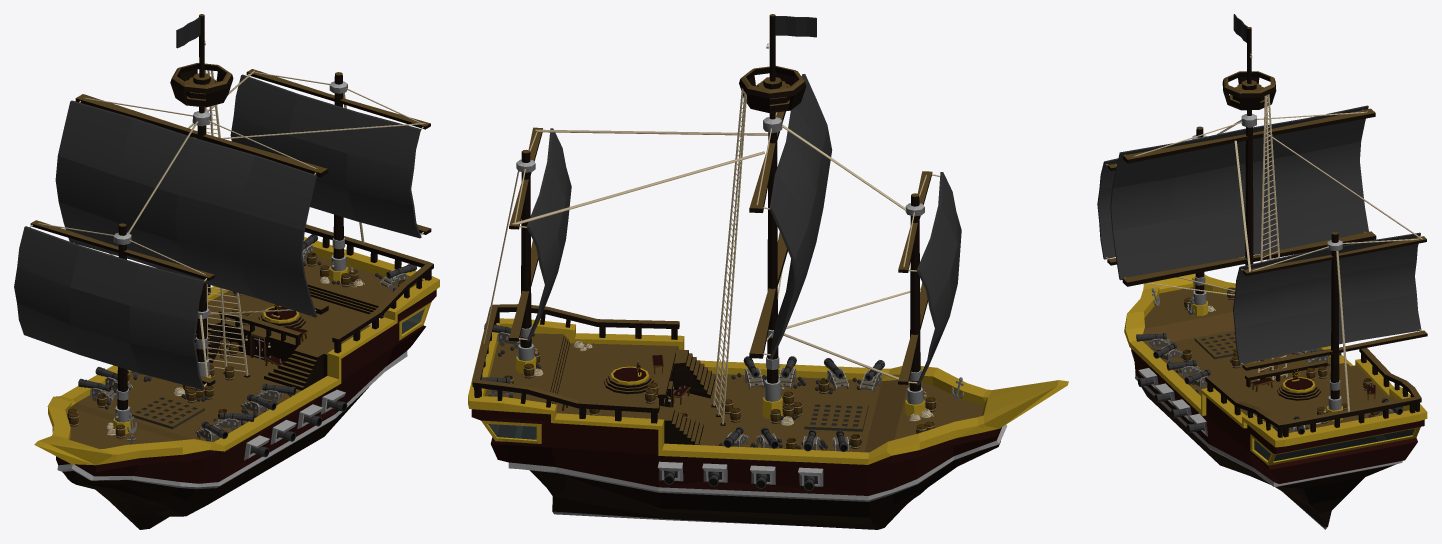
The model's file is ship.glb.
The picture shows the model from 3 angles, left to right: view 1: azimuth 30°, elevation 25°; view 2: azimuth 150°, elevation 25°; view 3: azimuth 270°, elevation 25°; orthographic projection. The views are drawn at different scales.
Parts seen in each view (by area): view 1: SM_Galleon_M_Sail_02_0, SM_Galleon_M_Wood_Light_0, SM_Galleon_M_Wood_Dark_0, SM_Galleon_M_Sail_01_0, SM_Galleon_M_Wood_Maroon_0, SM_Galleon_M_Gold_Light_0, SM_Galleon_M_Gold_Dark_0, SM_Galleon_M_Rope_0, SM_Galleon_M_Metal_Light_0, SM_Galleon_M_Metal_Dark_0, SM_Galleon_M_Cannon_02_0, SM_Galleon_M_Barrel_Wood_2_0 (+4 smaller); view 2: SM_Galleon_M_Wood_Light_0, SM_Galleon_M_Wood_Dark_0, SM_Galleon_M_Wood_Maroon_0, SM_Galleon_M_Sail_02_0, SM_Galleon_M_Gold_Light_0, SM_Galleon_M_Gold_Dark_0, SM_Galleon_M_Rope_0, SM_Galleon_M_Metal_Light_0, SM_Galleon_M_Metal_Dark_0, SM_Galleon_M_Sail_01_0, SM_Galleon_M_Cannon_02_0, SM_Galleon_M_Barrel_Wood_1_0 (+5 smaller); view 3: SM_Galleon_M_Sail_02_0, SM_Galleon_M_Wood_Light_0, SM_Galleon_M_Wood_Dark_0, SM_Galleon_M_Wood_Maroon_0, SM_Galleon_M_Gold_Light_0, SM_Galleon_M_Rope_0, SM_Galleon_M_Gold_Dark_0, SM_Galleon_M_Metal_Light_0, SM_Galleon_M_Metal_Dark_0, SM_Galleon_M_Cannon_02_0, SM_Galleon_M_Sail_01_0, SM_Galleon_M_Window_0 (+3 smaller).
Boxes of the visible parts, x1,y1,x2,y2 form: SM_Galleon_M_Sail_02_0: (14, 75, 419, 389); SM_Galleon_M_Wood_Light_0: (31, 14, 433, 448); SM_Galleon_M_Wood_Dark_0: (30, 15, 433, 529); SM_Galleon_M_Sail_01_0: (25, 74, 421, 389); SM_Galleon_M_Wood_Maroon_0: (52, 289, 436, 483); SM_Galleon_M_Gold_Light_0: (34, 237, 439, 454); SM_Galleon_M_Gold_Dark_0: (35, 246, 439, 465); SM_Galleon_M_Rope_0: (29, 70, 425, 435); SM_Galleon_M_Metal_Light_0: (57, 43, 407, 487); SM_Galleon_M_Metal_Dark_0: (58, 41, 407, 529); SM_Galleon_M_Cannon_02_0: (78, 234, 416, 457); SM_Galleon_M_Barrel_Wood_2_0: (67, 252, 402, 438); SM_Galleon_M_Wood_Light_0: (472, 14, 983, 452); SM_Galleon_M_Wood_Dark_0: (472, 15, 1000, 529); SM_Galleon_M_Wood_Maroon_0: (471, 344, 1001, 495); SM_Galleon_M_Sail_02_0: (527, 74, 961, 381); SM_Galleon_M_Gold_Light_0: (468, 318, 1068, 458); SM_Galleon_M_Gold_Dark_0: (468, 323, 1067, 464); SM_Galleon_M_Rope_0: (483, 88, 940, 425); SM_Galleon_M_Metal_Light_0: (498, 43, 1006, 500); SM_Galleon_M_Metal_Dark_0: (490, 47, 963, 526); SM_Galleon_M_Sail_01_0: (526, 74, 959, 385); SM_Galleon_M_Cannon_02_0: (481, 323, 884, 490); SM_Galleon_M_Barrel_Wood_1_0: (503, 352, 936, 449); SM_Galleon_M_Sail_02_0: (1098, 106, 1421, 364); SM_Galleon_M_Wood_Light_0: (1108, 27, 1426, 432); SM_Galleon_M_Wood_Dark_0: (1107, 28, 1427, 527); SM_Galleon_M_Wood_Maroon_0: (1131, 349, 1424, 483); SM_Galleon_M_Gold_Light_0: (1125, 273, 1426, 465); SM_Galleon_M_Rope_0: (1105, 94, 1422, 424); SM_Galleon_M_Gold_Dark_0: (1124, 278, 1427, 462); SM_Galleon_M_Metal_Light_0: (1131, 53, 1402, 486); SM_Galleon_M_Metal_Dark_0: (1139, 57, 1400, 529); SM_Galleon_M_Cannon_02_0: (1136, 333, 1402, 434); SM_Galleon_M_Sail_01_0: (1097, 105, 1420, 364); SM_Galleon_M_Window_0: (1254, 429, 1414, 461).
Size of the model in its own units: 60.68 by 58.56 by 40.66.
